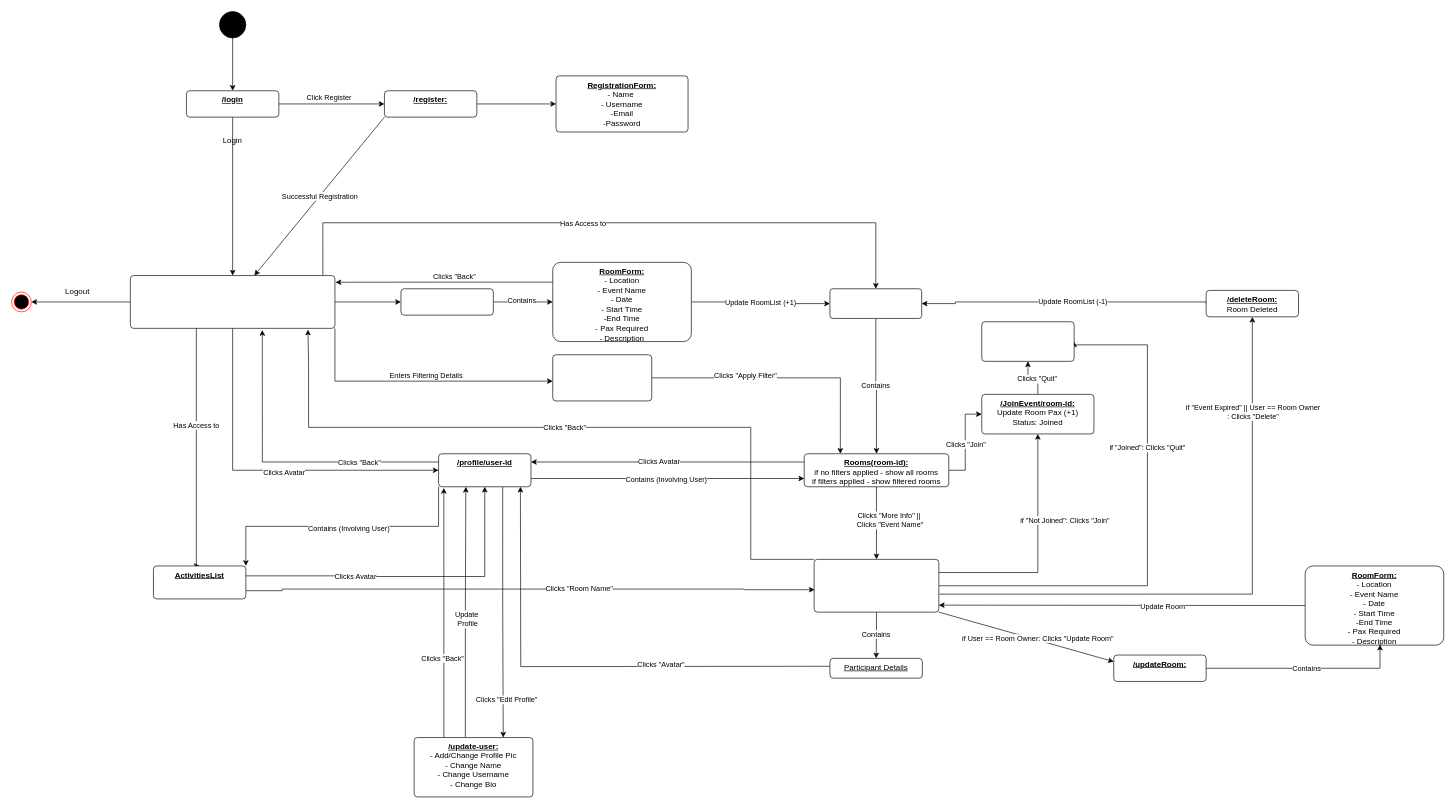
Image size: 1455x809. Some labels were removed from this diagram. The box of each missing label's shape, as (x1, y1, x2, y2) in pixels:
/create-room: (400, 288, 493, 315)
/home: (130, 275, 335, 328)
/quitEvent/room-id: Update Room Pax (-1) Status: Not joined: (981, 321, 1074, 361)
/room/room-id: - More Details of Event - Direction to Venue: (813, 559, 939, 612)
Filter: - Location - Date - Start Time: (552, 354, 652, 401)
RoomList: (829, 288, 922, 318)
